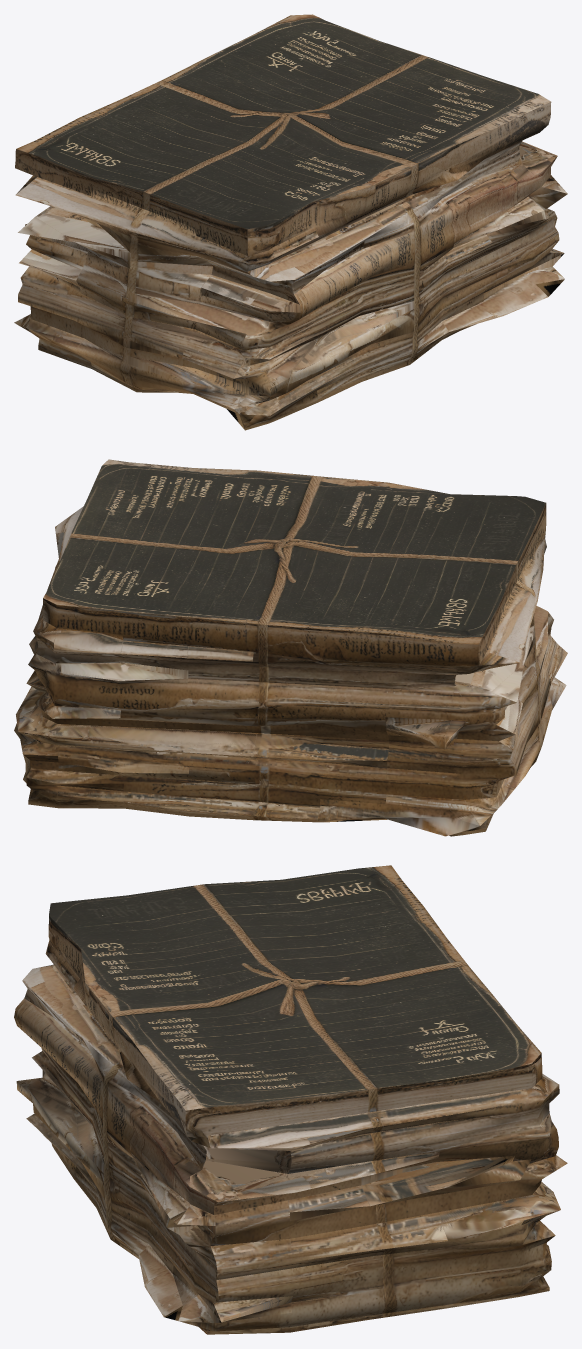
File: DocumentStack.fbx
The picture shows the model from 3 angles, top to bottom: view 1: azimuth 30°, elevation 25°; view 2: azimuth 150°, elevation 25°; view 3: azimuth 270°, elevation 25°; orthographic projection. The views are drawn at different scales.
Parts seen in each view (by area): view 1: DocumentStack_Low; view 2: DocumentStack_Low; view 3: DocumentStack_Low.
Part boxes in pixels (left/top/right/bottom): DocumentStack_Low: left=14, top=14, right=567, bottom=430; DocumentStack_Low: left=14, top=459, right=567, bottom=836; DocumentStack_Low: left=14, top=865, right=567, bottom=1334.
Bounding box in the file's own units: 1.34 × 0.5452 × 1.13.
